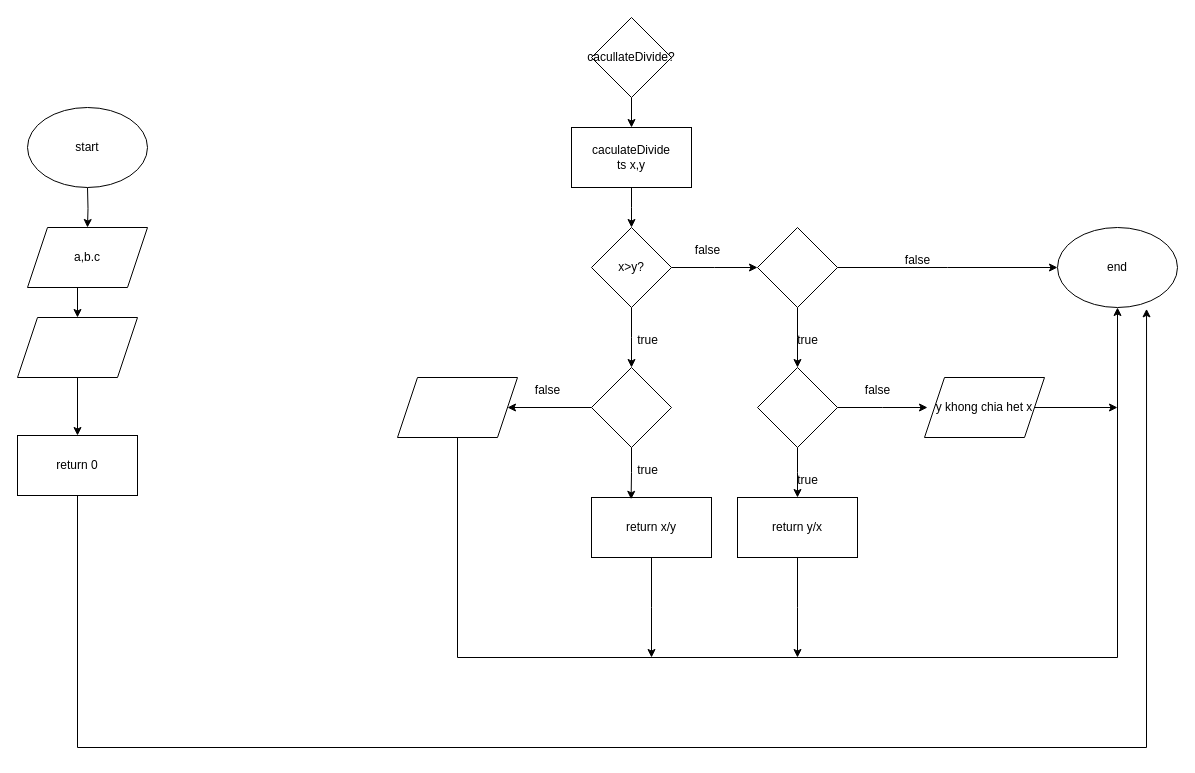
The diagram is 1195 pixels wide and 773 high, and some of its shapes have lost their labels. The shapes that lost their labels are listed below. From the top down, each one's centre as x and y in pixels, then its label:
the point at 797,267: y>x?
the point at 77,347: truyen gia tri tung cap so vao x,y va tinh toan
the point at 457,407: x khong chia het y
the point at 631,407: x%y==0?
the point at 797,407: y%x==0?
